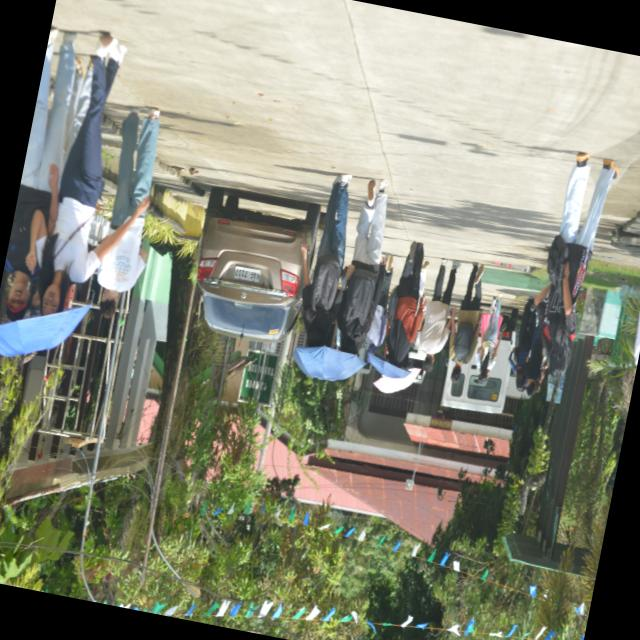person: (26, 33, 149, 314), (4, 26, 75, 320), (535, 152, 617, 376), (337, 179, 387, 353), (300, 173, 350, 345), (110, 106, 159, 229), (386, 241, 424, 365), (419, 258, 459, 371), (448, 261, 483, 382), (365, 254, 392, 361), (508, 296, 535, 390), (476, 293, 501, 381), (523, 324, 543, 395), (633, 312, 639, 364)
